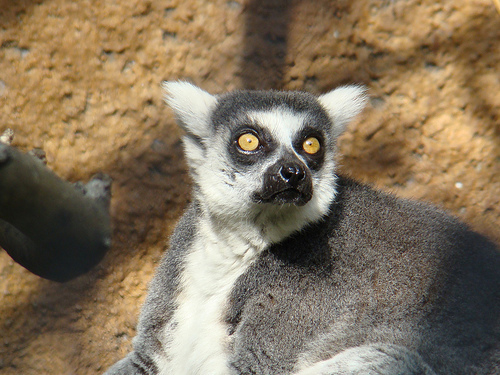cat: (100, 79, 499, 374)
